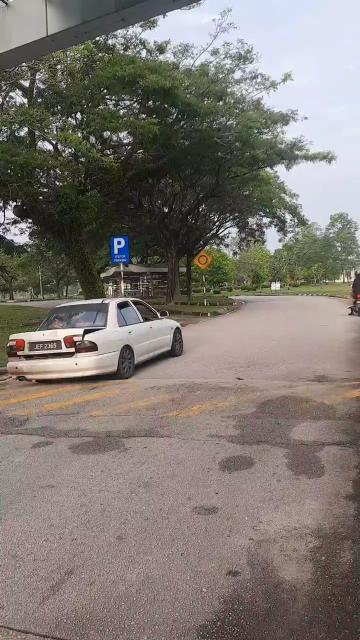car: (1, 282, 191, 385)
